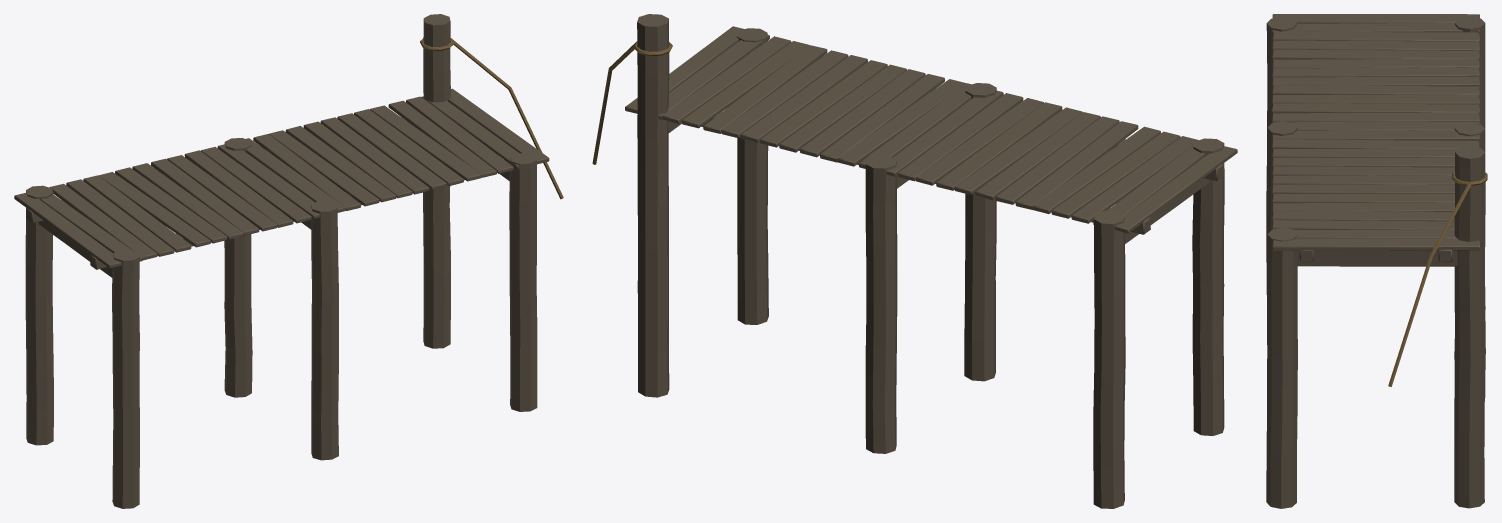
The model's file is steg.glb.
3 renders of one model, left to right at view 1: azimuth 30°, elevation 25°; view 2: azimuth 150°, elevation 25°; view 3: azimuth 270°, elevation 25°, orthographic. The views are drawn at different scales.
Parts seen in each view (by area): view 1: steg; view 2: steg; view 3: steg.
Boxes of the visible parts, x1,y1,x2,y2 form: steg: (14, 14, 563, 508); steg: (592, 14, 1237, 508); steg: (1266, 14, 1487, 508).
Size of the model in its own units: 4.61 by 2.81 by 1.6.
